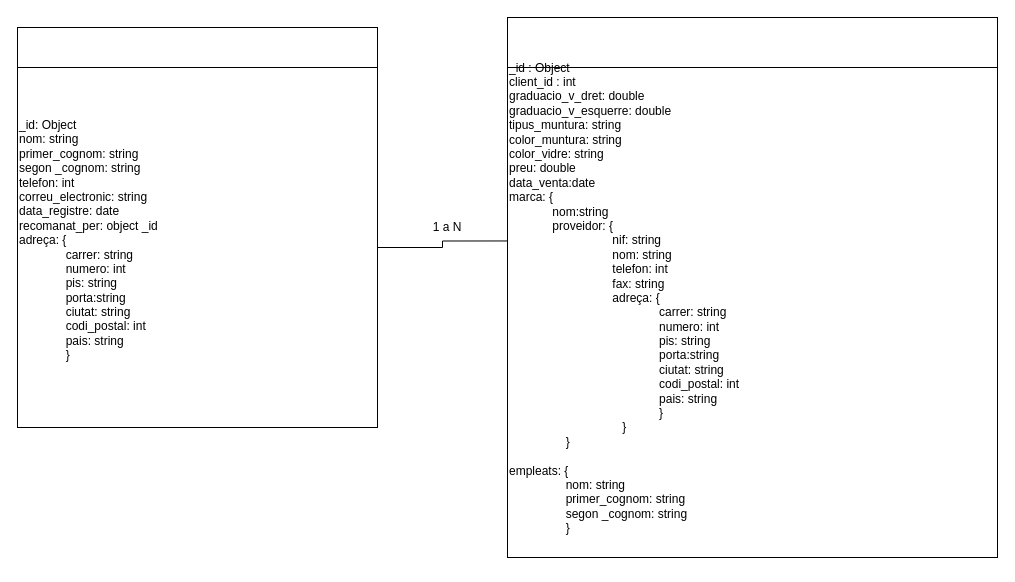
Image size: 1015x582. Some labels were removed from this diagram. Each missing label, with the box of its shape:
Clients: (16, 26, 378, 68)
Ulleres: (506, 16, 998, 68)
